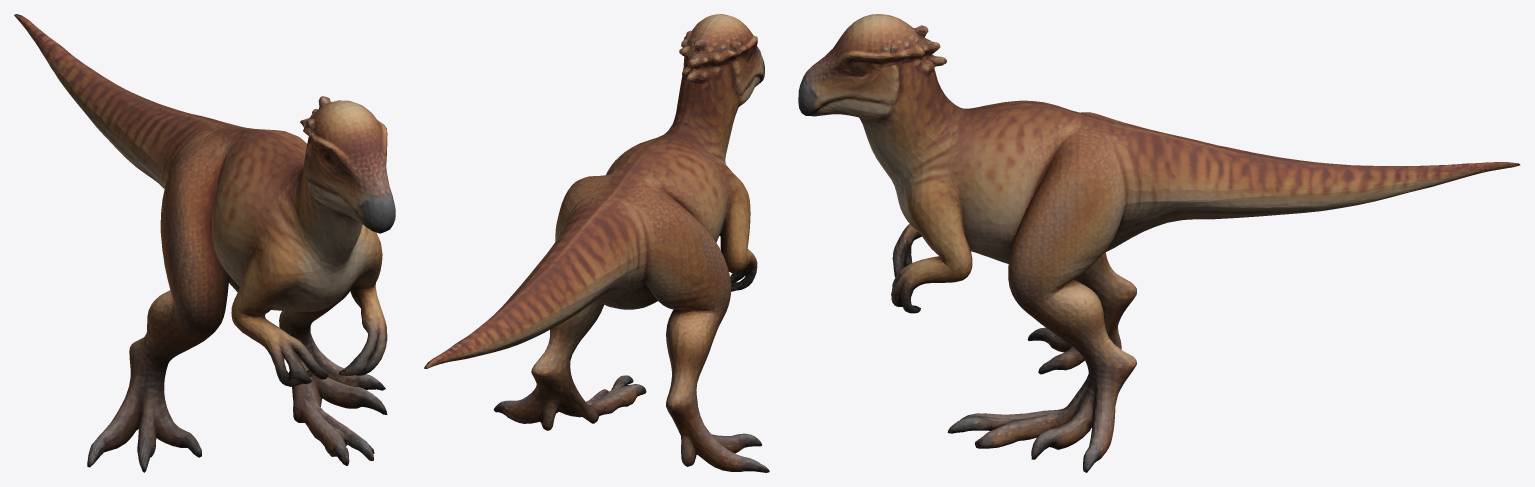
3 views of the same model, side by side, from view 1: azimuth 30°, elevation 25°; view 2: azimuth 150°, elevation 25°; view 3: azimuth 270°, elevation 25° (orthographic). The views are drawn at different scales.
Parts seen in each view (by area): view 1: world; view 2: world; view 3: world.
Boxes of the visible parts, x1=… form: world: x1=14, y1=14, x2=395, y2=472; world: x1=424, y1=14, x2=769, y2=472; world: x1=798, y1=14, x2=1520, y2=472.
Size of the model in its own units: 1.04 by 1.33 by 2.2.
Materials: 1 (1 with a texture image).
